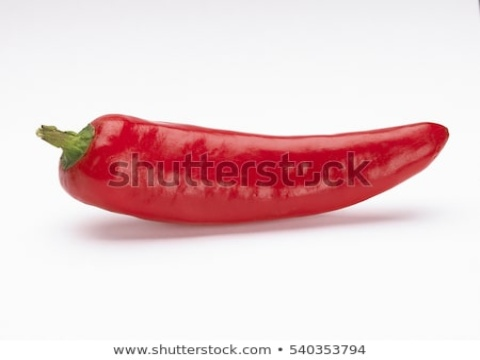Chilli: (31, 96, 459, 234)
